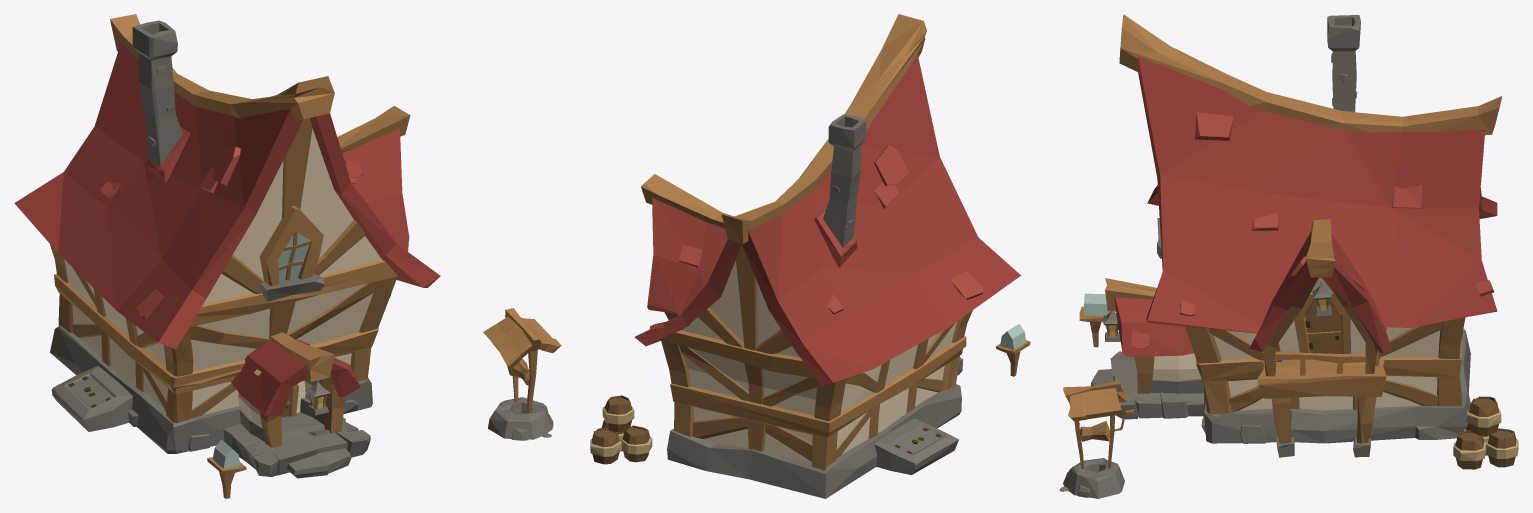
File: house_3_high.FBX
3 views of the same model, side by side, from view 1: azimuth 30°, elevation 25°; view 2: azimuth 150°, elevation 25°; view 3: azimuth 270°, elevation 25° (orthographic). The views are drawn at different scales.
Visible parts, largest first — view 1: house_3_high, house_3_high_deng; view 2: house_3_high; view 3: house_3_high.
Part boxes in pixels (x1=…): house_3_high: x1=14, y1=14, x2=561, y2=498; house_3_high_deng: x1=278, y1=233, x2=324, y2=408; house_3_high: x1=590, y1=14, x2=1030, y2=498; house_3_high: x1=1059, y1=14, x2=1518, y2=498.
Bounding box in the file's own units: 4.64 × 4.68 × 5.22.
